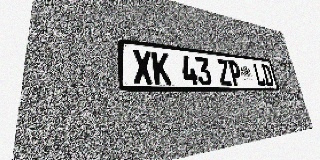3: (195, 56, 212, 85)
4: (180, 55, 199, 85)
D: (261, 64, 274, 86)
K: (151, 51, 172, 85)
L: (252, 63, 266, 86)
P: (227, 60, 243, 86)
X: (132, 49, 153, 84)
Z: (216, 59, 232, 85)
